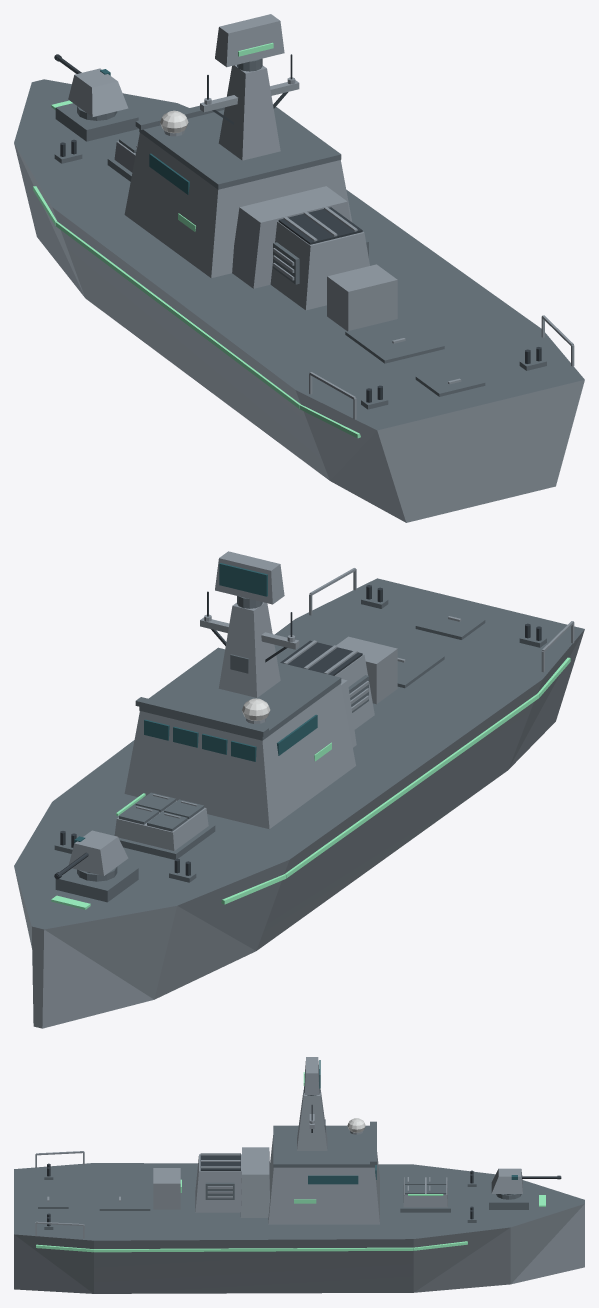
File: ESC_CAP_T0.fbx
3 views of the same model, one above another, from view 1: azimuth 30°, elevation 25°; view 2: azimuth 150°, elevation 25°; view 3: azimuth 270°, elevation 25° (orthographic). The views are drawn at different scales.
Visible parts, largest first — view 1: ContinuousHull, Deckhouse, Roof, AftServiceCabin, FunnelEnclosure, AirSearchMast, AftFireControlCabinet, AftEquipmentAccess, RotatingSearchRadarCabinet, PrimaryGunCupola, PrimaryGunDeckPlinth, RoleHullStripe-1_1 (+3 smaller); view 2: ContinuousHull, Deckhouse, Roof, AirSearchMast, AftFireControlCabinet, ForwardVLSCasing, PrimaryGunCupola, PrimaryGunDeckPlinth, RotatingSearchRadarCabinet, RoleHullStripe-1_1, BridgeBrow, ExhaustGrille (+7 smaller); view 3: ContinuousHull, Deckhouse, Roof, AftServiceCabin, FunnelEnclosure, AirSearchMast, RoleHullStripe1_1, AftFireControlCabinet, AftEquipmentAccess, PrimaryGunCupola, ForwardVLSCasing, PrimaryGunDeckPlinth (+6 smaller).
Boxes of the visible parts, x1=… form: ContinuousHull: x1=14, y1=79, x2=584, y2=522; Deckhouse: x1=124, y1=133, x2=352, y2=278; Roof: x1=139, y1=107, x2=341, y2=189; AftServiceCabin: x1=232, y1=186, x2=350, y2=288; FunnelEnclosure: x1=270, y1=221, x2=369, y2=310; AirSearchMast: x1=218, y1=65, x2=280, y2=160; AftFireControlCabinet: x1=327, y1=264, x2=397, y2=331; AftEquipmentAccess: x1=345, y1=317, x2=444, y2=363; RotatingSearchRadarCabinet: x1=215, y1=14, x2=284, y2=67; PrimaryGunCupola: x1=68, y1=68, x2=128, y2=117; PrimaryGunDeckPlinth: x1=55, y1=103, x2=138, y2=141; RoleHullStripe-1_1: x1=55, y1=221, x2=300, y2=408; ContinuousHull: x1=14, y1=578, x2=584, y2=1028; Deckhouse: x1=124, y1=683, x2=355, y2=829; Roof: x1=139, y1=647, x2=341, y2=740; AirSearchMast: x1=218, y1=602, x2=280, y2=697; AftFireControlCabinet: x1=336, y1=636, x2=397, y2=704; ForwardVLSCasing: x1=114, y1=800, x2=208, y2=850; PrimaryGunCupola: x1=69, y1=830, x2=128, y2=875; PrimaryGunDeckPlinth: x1=55, y1=864, x2=138, y2=902; RotatingSearchRadarCabinet: x1=215, y1=551, x2=284, y2=604; RoleHullStripe-1_1: x1=284, y1=693, x2=538, y2=878; BridgeBrow: x1=135, y1=697, x2=268, y2=736; ExhaustGrille: x1=280, y1=640, x2=362, y2=675; ContinuousHull: x1=14, y1=1163, x2=584, y2=1293; Deckhouse: x1=268, y1=1135, x2=379, y2=1224; Roof: x1=273, y1=1125, x2=374, y2=1167; AftServiceCabin: x1=240, y1=1147, x2=269, y2=1217; FunnelEnclosure: x1=195, y1=1154, x2=241, y2=1212; AirSearchMast: x1=297, y1=1089, x2=327, y2=1150; RoleHullStripe1_1: x1=94, y1=1247, x2=413, y2=1252; AftFireControlCabinet: x1=153, y1=1168, x2=180, y2=1209; AftEquipmentAccess: x1=99, y1=1190, x2=150, y2=1210; PrimaryGunCupola: x1=491, y1=1168, x2=522, y2=1193; ForwardVLSCasing: x1=403, y1=1177, x2=447, y2=1207; PrimaryGunDeckPlinth: x1=489, y1=1186, x2=528, y2=1209.
Size of the model in its own units: 290 by 349 by 900.
